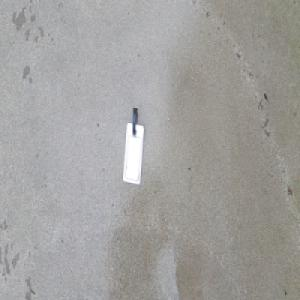LuggageTag: (122, 107, 145, 187)
